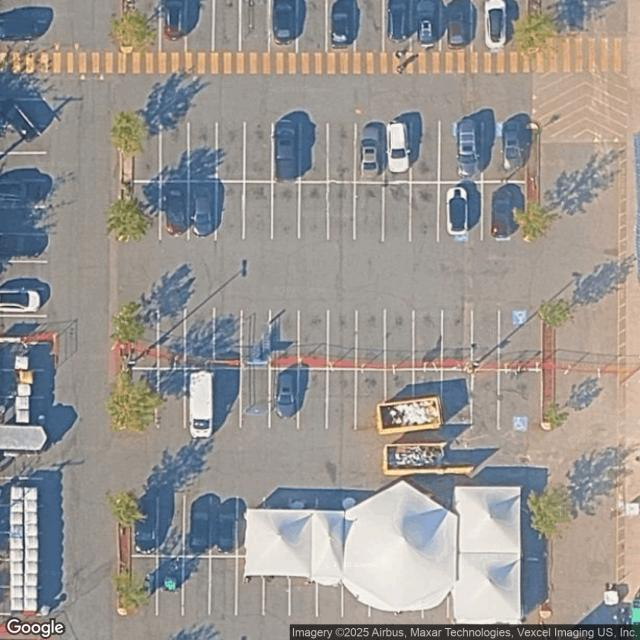car: (1, 98, 42, 144), (188, 372, 214, 438), (275, 121, 300, 180), (190, 184, 216, 236), (0, 176, 44, 205), (458, 118, 480, 176), (136, 498, 158, 552), (164, 182, 186, 233), (1, 286, 42, 313), (276, 371, 299, 419), (362, 125, 382, 176), (502, 121, 523, 169), (490, 188, 510, 238), (484, 2, 506, 46), (417, 0, 439, 44), (272, 0, 295, 42), (0, 17, 42, 40), (447, 190, 469, 233), (193, 500, 212, 549), (448, 2, 469, 46), (389, 124, 408, 172), (388, 0, 410, 41), (162, 0, 185, 39), (0, 234, 39, 256), (221, 504, 238, 550), (332, 5, 352, 43)
lot_boundary: (0, 0, 542, 639)
objects: (116, 125, 136, 242), (118, 313, 136, 424), (118, 498, 134, 612), (525, 125, 540, 239), (120, 0, 134, 53)
stall: (507, 556, 546, 622), (499, 372, 542, 429), (501, 497, 544, 553), (499, 311, 541, 368), (384, 308, 416, 368), (478, 554, 506, 622), (413, 310, 445, 369), (327, 120, 357, 182), (326, 367, 356, 429), (440, 308, 471, 368), (300, 310, 332, 368), (396, 553, 423, 618), (355, 370, 384, 430), (156, 364, 184, 426), (242, 366, 270, 428), (273, 116, 300, 180), (355, 310, 384, 369), (160, 123, 190, 180), (214, 312, 244, 369), (300, 364, 327, 427), (160, 180, 188, 240), (342, 556, 370, 616), (185, 554, 211, 618), (441, 370, 470, 427), (210, 558, 238, 617), (414, 117, 439, 183), (386, 369, 413, 430), (368, 555, 394, 618), (236, 558, 264, 616), (210, 499, 238, 557), (472, 370, 500, 428), (157, 311, 185, 369), (271, 309, 299, 367), (188, 122, 215, 182), (356, 180, 383, 240), (219, 180, 246, 240), (0, 423, 52, 454), (302, 178, 328, 239), (134, 179, 160, 240), (245, 182, 272, 240), (0, 370, 54, 399), (326, 0, 356, 52), (452, 555, 476, 620), (133, 498, 159, 558), (240, 0, 271, 50), (273, 183, 300, 240), (291, 558, 318, 615), (187, 370, 214, 427), (244, 311, 271, 368), (451, 497, 476, 558), (482, 184, 509, 240), (383, 185, 410, 241), (357, 0, 386, 52), (187, 181, 213, 239), (246, 122, 272, 180), (329, 180, 355, 238), (498, 0, 528, 50), (439, 182, 464, 242), (219, 122, 244, 182), (412, 182, 437, 242), (360, 121, 387, 176), (471, 314, 498, 369), (293, 501, 319, 558), (185, 0, 214, 51), (159, 497, 184, 556), (318, 502, 345, 556), (370, 501, 396, 557), (423, 499, 449, 555), (185, 498, 210, 556), (188, 310, 213, 368), (304, 122, 328, 182), (242, 498, 266, 558), (343, 501, 369, 556), (133, 0, 161, 51), (444, 0, 472, 51), (439, 118, 462, 180), (501, 122, 525, 181), (483, 117, 505, 181), (136, 552, 158, 616), (212, 0, 239, 52), (320, 557, 343, 618), (273, 369, 298, 425), (1, 342, 51, 370), (0, 96, 46, 126), (137, 122, 160, 182), (300, 0, 327, 51), (0, 506, 49, 534), (426, 556, 448, 618), (416, 370, 442, 422), (398, 500, 423, 554), (159, 559, 183, 615), (266, 558, 290, 614), (388, 120, 410, 181), (136, 309, 159, 367), (271, 0, 297, 51), (386, 0, 412, 51), (332, 309, 354, 369), (461, 119, 482, 181), (415, 0, 441, 50), (0, 397, 52, 422), (0, 234, 46, 262), (476, 498, 499, 554), (0, 586, 46, 614), (1, 177, 45, 206), (161, 0, 186, 51), (216, 371, 239, 426), (0, 287, 45, 315), (472, 1, 498, 49), (268, 499, 289, 558), (136, 367, 158, 422), (1, 479, 44, 507), (505, 183, 526, 240), (0, 153, 46, 179), (0, 262, 46, 288), (0, 534, 47, 559), (1, 560, 46, 586), (2, 126, 45, 153), (1, 315, 47, 339), (0, 208, 45, 232), (0, 18, 47, 40), (464, 182, 482, 238), (0, 76, 45, 98), (0, 0, 48, 19)
